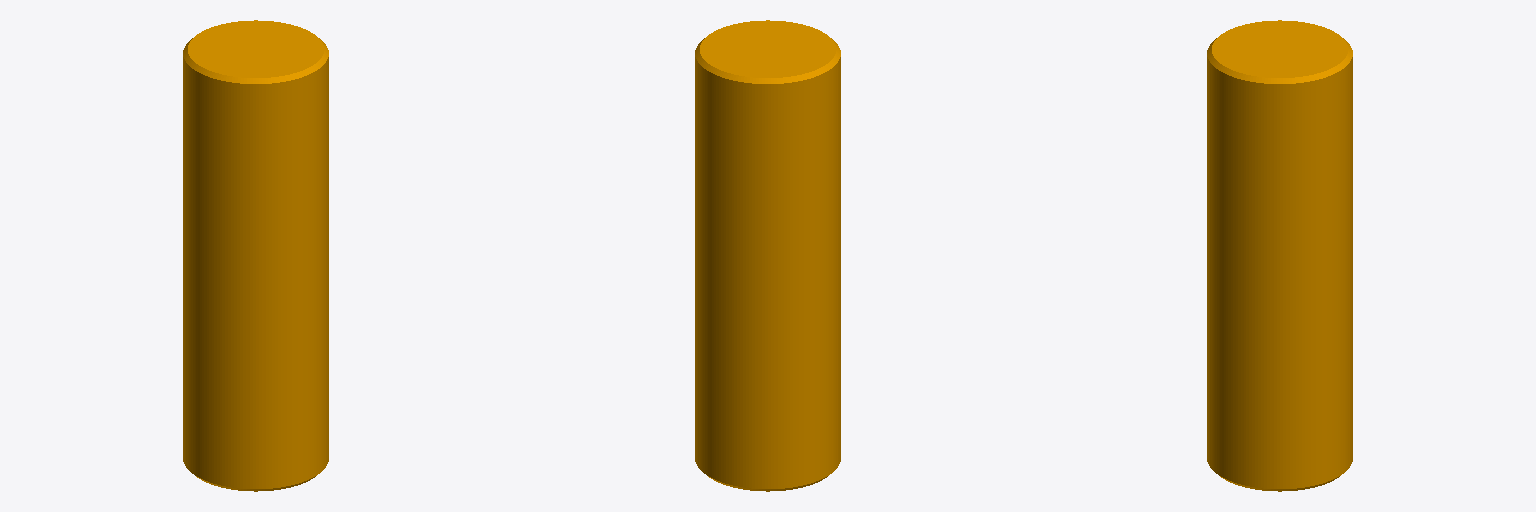
robot.urdf — factory_round_peg_16mm_loose:
<?xml version="1.0"?>
<robot name="factory_round_peg_16mm_loose">
    <link name="factory_round_peg_16mm_loose">
        <visual>
            <geometry>
                <mesh filename="../mesh/factory_insertion/factory_round_peg_16mm_loose.obj"/>
            </geometry>
        </visual>
        <collision>
            <geometry>
                <mesh filename="../mesh/factory_insertion/factory_round_peg_16mm_loose.obj"/>
            </geometry>
            <sdf resolution="256"/>
        </collision>
    </link>
</robot>

--- What the picture shows (computed from the rendered views, not written in the file) ---
3 views of the same robot in one strip: view 1: azimuth 30°, elevation 25°; view 2: azimuth 150°, elevation 25°; view 3: azimuth 270°, elevation 25° (orthographic).
Robot: factory_round_peg_16mm_loose — 1 links, 0 joints (none); root link factory_round_peg_16mm_loose; default pose: all joints at 0.
Links seen in each view (by area): view 1: factory_round_peg_16mm_loose; view 2: factory_round_peg_16mm_loose; view 3: factory_round_peg_16mm_loose.
Boxes of the visible links, left/top/right/bottom form: factory_round_peg_16mm_loose: left=183, top=20, right=328, bottom=491; factory_round_peg_16mm_loose: left=695, top=20, right=840, bottom=491; factory_round_peg_16mm_loose: left=1207, top=20, right=1352, bottom=491.
Size in the robot's own frame: 0.016 by 0.016 by 0.05 metres.
Meshes: 1 distinct files referenced, 1 mesh visuals loaded (1 OBJ).